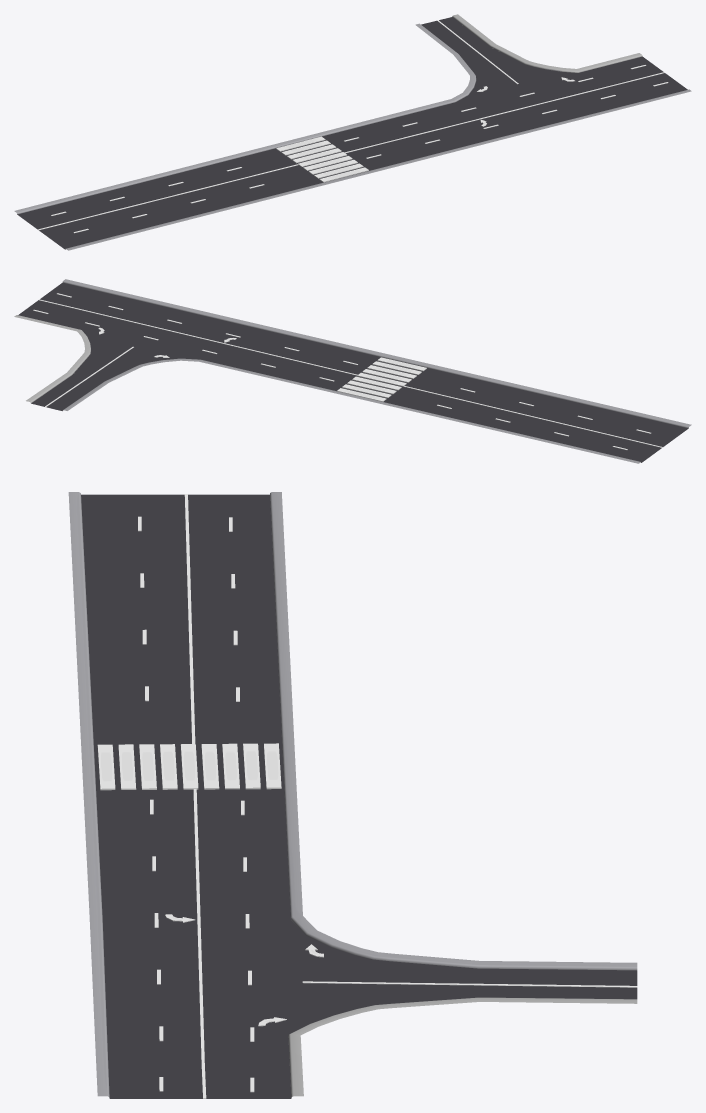
File: Road.fbx
The picture shows the model from 3 angles, top to bottom: view 1: azimuth 30°, elevation 25°; view 2: azimuth 150°, elevation 25°; view 3: azimuth 270°, elevation 25°; orthographic projection. The views are drawn at different scales.
Parts seen in each view (by area): view 1: Cube; view 2: Cube; view 3: Cube.
Boxes of the visible parts, x1,y1,x2,y2 form: Cube: [14, 14, 691, 250]; Cube: [14, 279, 691, 463]; Cube: [68, 492, 637, 1098].
Size of the model in its own units: 5314 by 10.52 by 2114.
